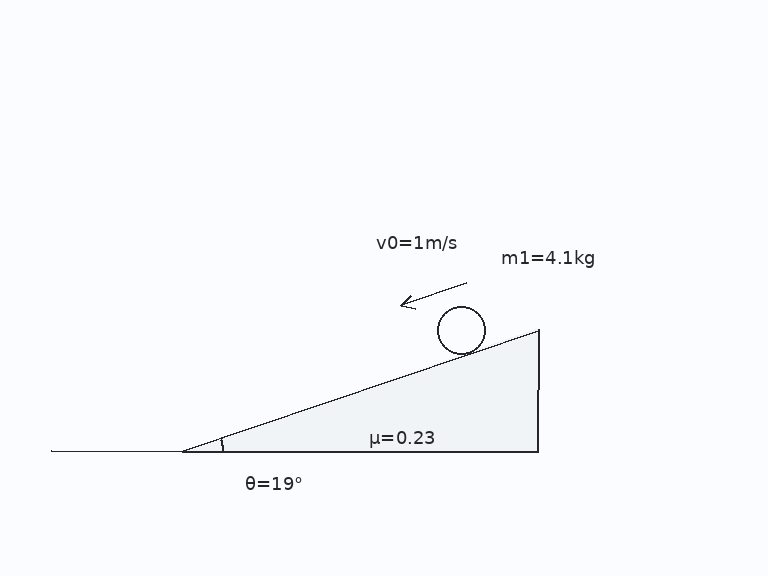ball: (435, 304, 487, 356)
ramp: (181, 327, 540, 453)
